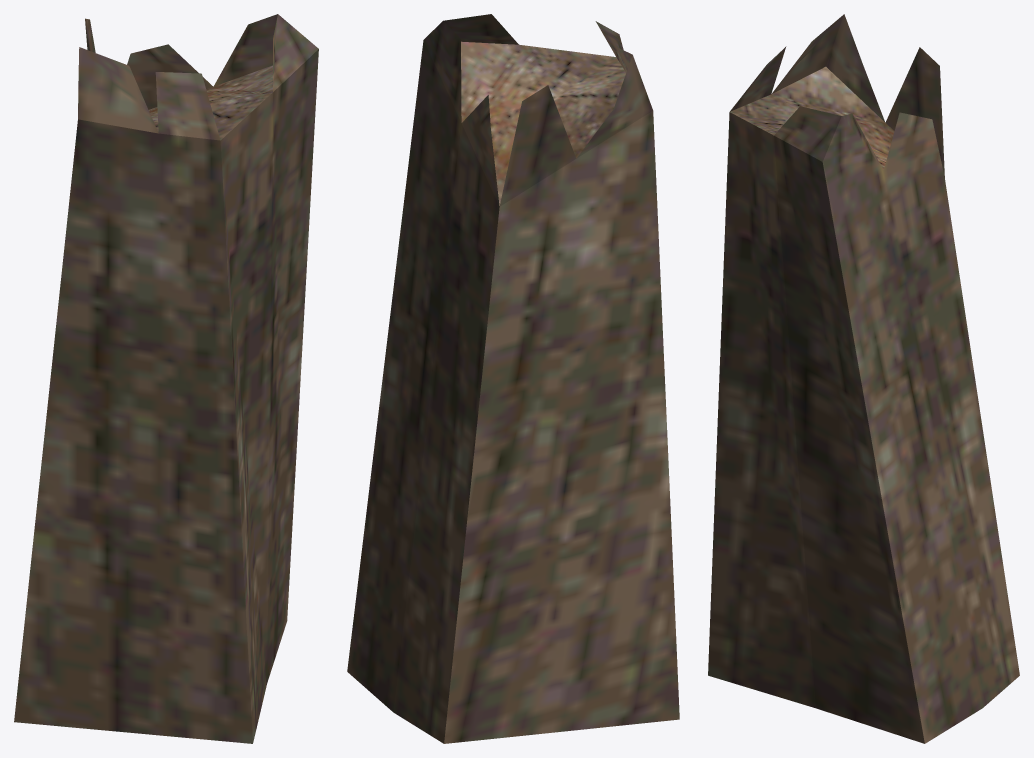
File: Urban_WoodenFencePoleBrokenSmall_Model.fbx
The picture shows the model from 3 angles, left to right: view 1: azimuth 30°, elevation 25°; view 2: azimuth 150°, elevation 25°; view 3: azimuth 270°, elevation 25°; orthographic projection. The views are drawn at different scales.
Parts seen in each view (by area): view 1: Urban_WoodenFencePoleBrokenSmall_Mesh; view 2: Urban_WoodenFencePoleBrokenSmall_Mesh; view 3: Urban_WoodenFencePoleBrokenSmall_Mesh.
Boxes of the visible parts, x1,y1,x2,y2 form: Urban_WoodenFencePoleBrokenSmall_Mesh: [14, 14, 318, 743]; Urban_WoodenFencePoleBrokenSmall_Mesh: [347, 14, 679, 743]; Urban_WoodenFencePoleBrokenSmall_Mesh: [708, 14, 1019, 743].
Bounding box in the file's own units: 0.2193 × 0.4535 × 0.208.
